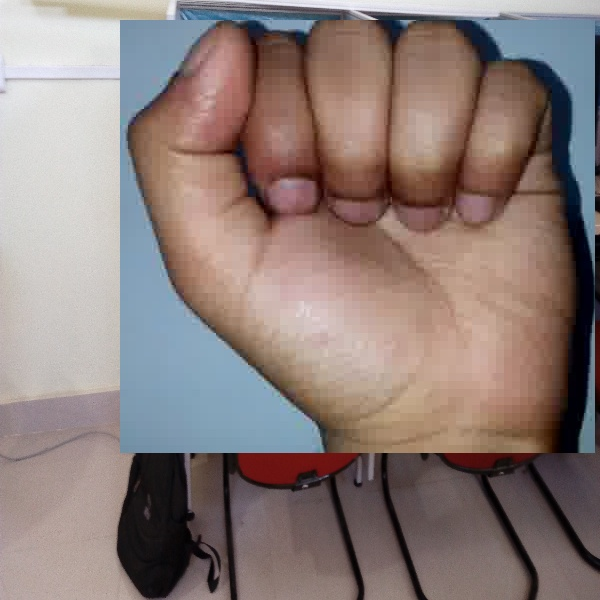A: (120, 20, 595, 453)
